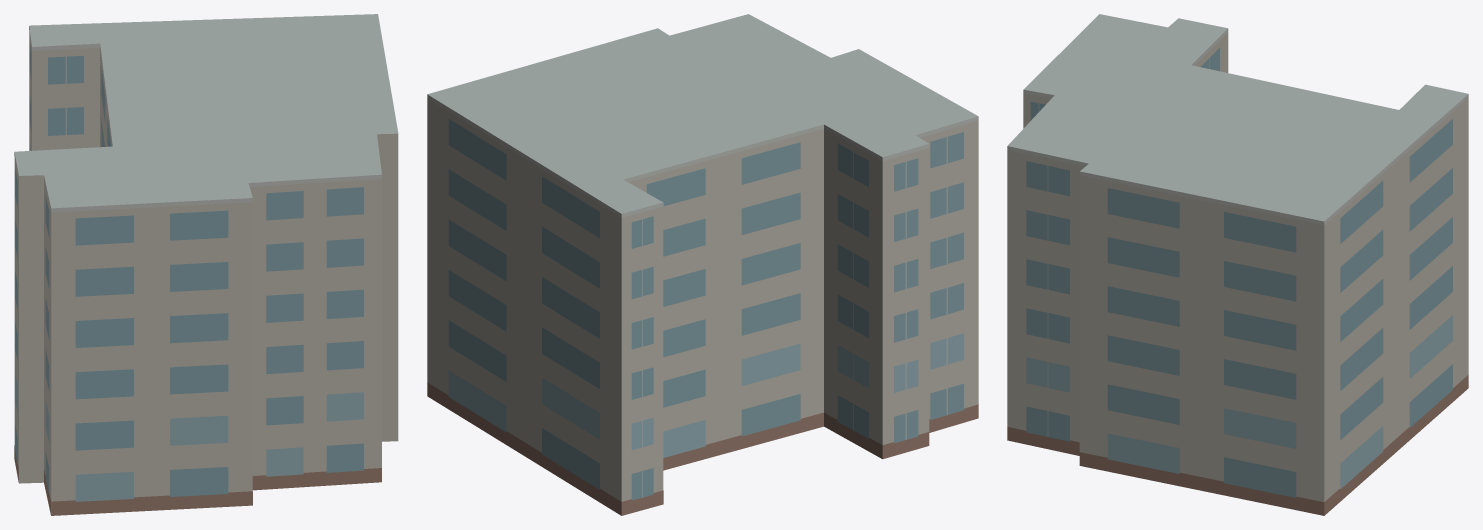
File: survey-upis-32628198.glb
3 renders of one model, left to right at view 1: azimuth 30°, elevation 25°; view 2: azimuth 150°, elevation 25°; view 3: azimuth 270°, elevation 25°, orthographic. The views are drawn at different scales.
Parts seen in each view (by area): view 1: survey-upis-32628198.tmp; view 2: survey-upis-32628198.tmp; view 3: survey-upis-32628198.tmp.
Part boxes in pixels (x1,y1,x2,y2): survey-upis-32628198.tmp: (14,14,398,515); survey-upis-32628198.tmp: (427,14,978,515); survey-upis-32628198.tmp: (1007,14,1468,515).
Size of the model in its own units: 27.37 by 18.1 by 25.72.
